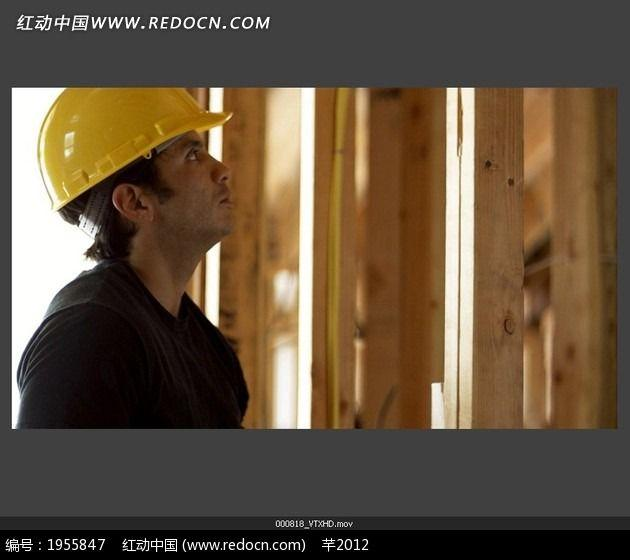helmet: (35, 88, 243, 212)
